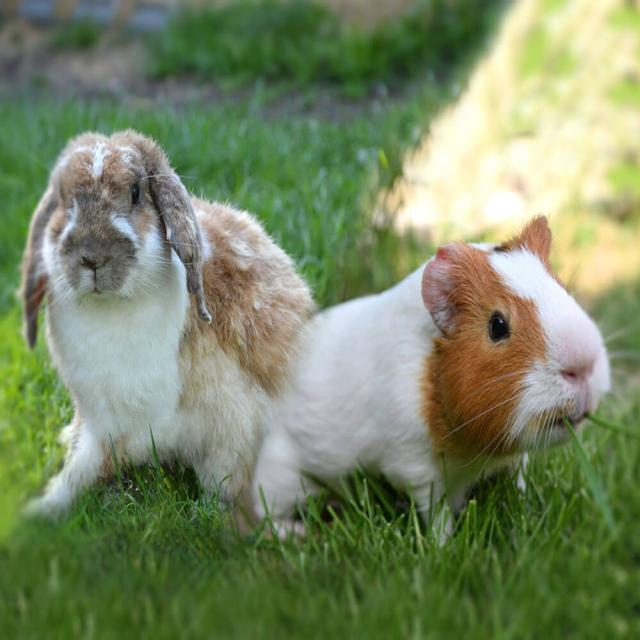guinea pig: (258, 213, 611, 534)
